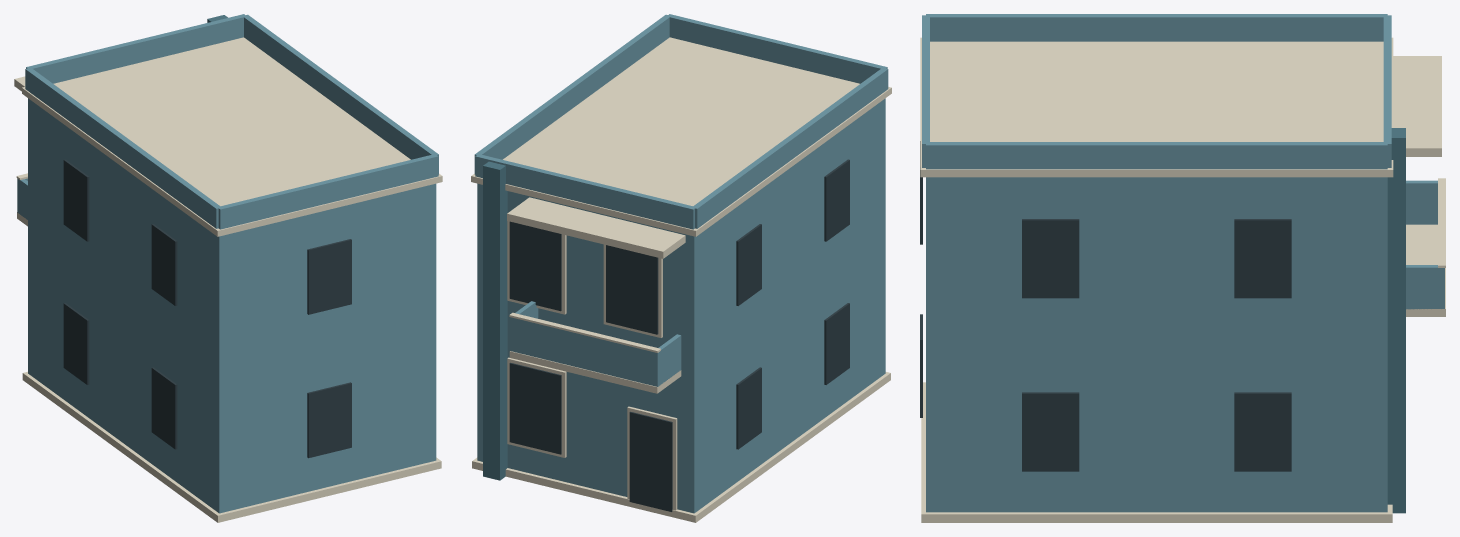
The model's file is KOL_T3_MOD_09.fbx.
3 views of the same model, side by side, from view 1: azimuth 30°, elevation 25°; view 2: azimuth 150°, elevation 25°; view 3: azimuth 270°, elevation 25° (orthographic). The views are drawn at different scales.
Visible parts, largest first — view 1: KOL_T3_MOD_09__Body, KOL_T3_MOD_09__Trim, KOL_T3_MOD_09__Dark; view 2: KOL_T3_MOD_09__Body, KOL_T3_MOD_09__Trim, KOL_T3_MOD_09__Dark, KOL_T3_MOD_09__Accent; view 3: KOL_T3_MOD_09__Body, KOL_T3_MOD_09__Trim, KOL_T3_MOD_09__Dark, KOL_T3_MOD_09__Accent.
Boxes of the visible parts, x1=… form: KOL_T3_MOD_09__Body: x1=17, y1=14, x2=438, y2=513; KOL_T3_MOD_09__Trim: x1=14, y1=37, x2=442, y2=522; KOL_T3_MOD_09__Dark: x1=63, y1=159, x2=351, y2=458; KOL_T3_MOD_09__Body: x1=474, y1=14, x2=888, y2=513; KOL_T3_MOD_09__Trim: x1=471, y1=37, x2=891, y2=522; KOL_T3_MOD_09__Dark: x1=509, y1=159, x2=849, y2=511; KOL_T3_MOD_09__Accent: x1=483, y1=161, x2=507, y2=480; KOL_T3_MOD_09__Body: x1=922, y1=14, x2=1444, y2=512; KOL_T3_MOD_09__Trim: x1=920, y1=37, x2=1445, y2=522; KOL_T3_MOD_09__Dark: x1=920, y1=141, x2=1291, y2=471; KOL_T3_MOD_09__Accent: x1=1387, y1=128, x2=1405, y2=513.
Bounding box in the file's own units: 19.74 × 26.15 × 33.02.
